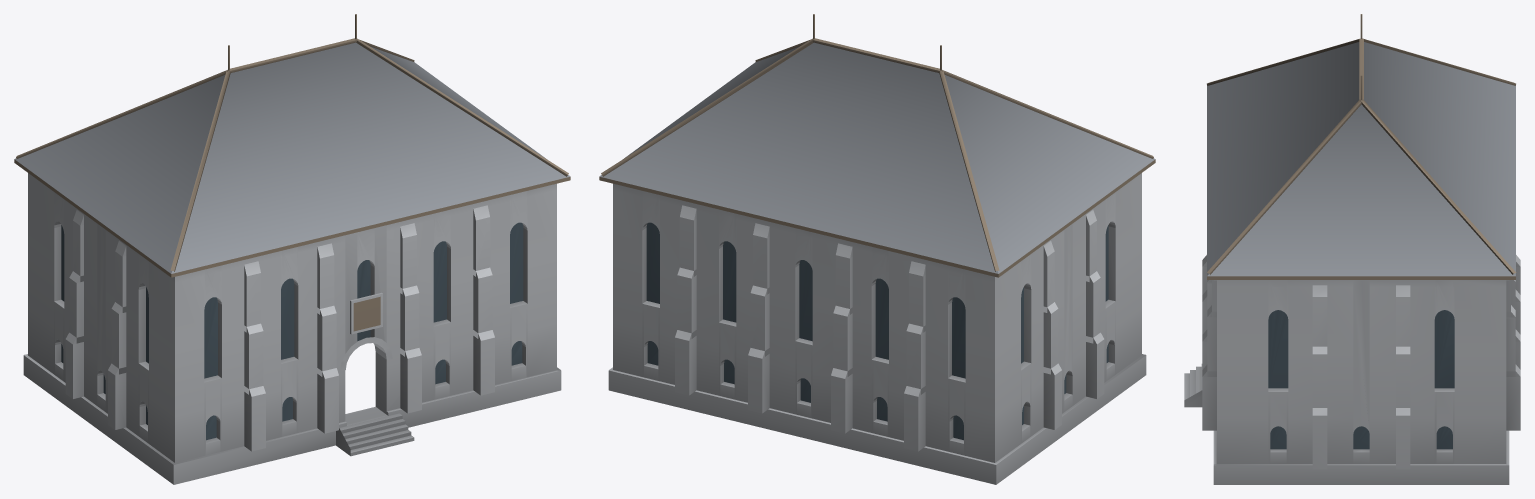
Rendered from sg_court_hall.glb.
The picture shows the model from 3 angles, left to right: view 1: azimuth 30°, elevation 25°; view 2: azimuth 150°, elevation 25°; view 3: azimuth 270°, elevation 25°; orthographic projection.
Visible parts, largest first — view 1: sg_court_hall_SG_Stone, sg_court_hall_SG_Slate, sg_court_hall_SG_Joinery, sg_court_hall_SG_Glass; view 2: sg_court_hall_SG_Stone, sg_court_hall_SG_Slate, sg_court_hall_SG_Glass, sg_court_hall_SG_Joinery; view 3: sg_court_hall_SG_Slate, sg_court_hall_SG_Stone, sg_court_hall_SG_Joinery, sg_court_hall_SG_Glass.
Boxes of the visible parts, x1,y1,x2,y2 form: sg_court_hall_SG_Stone: (23, 173, 561, 484); sg_court_hall_SG_Slate: (14, 42, 570, 273); sg_court_hall_SG_Joinery: (14, 14, 570, 331); sg_court_hall_SG_Glass: (61, 222, 523, 440); sg_court_hall_SG_Stone: (608, 173, 1146, 484); sg_court_hall_SG_Slate: (599, 42, 1155, 273); sg_court_hall_SG_Glass: (646, 222, 1108, 440); sg_court_hall_SG_Joinery: (599, 14, 1155, 277); sg_court_hall_SG_Slate: (1207, 42, 1515, 276); sg_court_hall_SG_Stone: (1184, 255, 1520, 484); sg_court_hall_SG_Joinery: (1207, 14, 1516, 279); sg_court_hall_SG_Glass: (1268, 310, 1454, 449).
Bounding box in the file's own units: 25.4 × 21.18 × 18.6.
